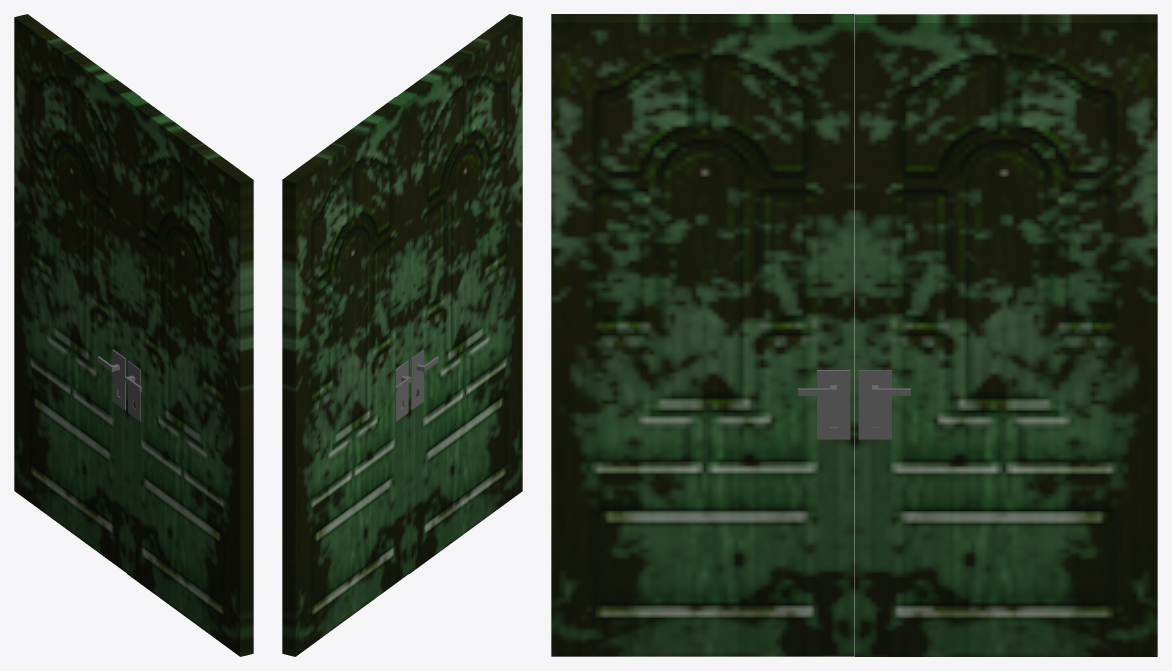
File: Porta-dupla-Escola.glb
The picture shows the model from 3 angles, left to right: view 1: azimuth 30°, elevation 25°; view 2: azimuth 150°, elevation 25°; view 3: azimuth 270°, elevation 25°; orthographic projection. The views are drawn at different scales.
Parts seen in each view (by area): view 1: Porta2, Porta1, Fechadura.002, Fechadura.001; view 2: Porta1, Porta2, Fechadura.001, Fechadura.002; view 3: Porta1, Porta2, Fechadura.002, Fechadura.001.
Boxes of the visible parts, box(x1,y1,x2,y2) form: Porta2: box(127, 97, 253, 656); Porta1: box(14, 14, 140, 572); Fechadura.002: box(97, 349, 125, 410); Fechadura.001: box(125, 361, 141, 421); Porta1: box(282, 97, 408, 656); Porta2: box(396, 14, 522, 573); Fechadura.001: box(411, 350, 438, 410); Fechadura.002: box(395, 361, 411, 421); Porta1: box(854, 14, 1157, 656); Porta2: box(551, 14, 854, 656); Fechadura.002: box(858, 370, 910, 439); Fechadura.001: box(798, 370, 850, 439).
Size of the model in its own units: 0.4095 by 6 by 5.21.
Materials: 2 (1 with a texture image).
